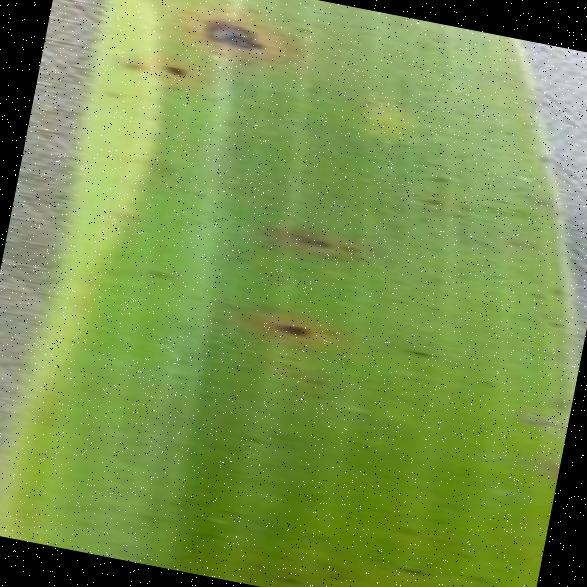Brown_Spot: (190, 2, 270, 62), (268, 212, 339, 264), (256, 304, 320, 348), (507, 402, 568, 434), (390, 552, 437, 582), (524, 443, 560, 482), (284, 364, 334, 392), (310, 558, 358, 586), (105, 198, 151, 227), (380, 511, 423, 542), (153, 52, 196, 82), (114, 48, 153, 80), (182, 520, 226, 547), (210, 242, 254, 269), (132, 504, 177, 529), (227, 423, 269, 448), (395, 336, 435, 362), (146, 150, 183, 178), (478, 186, 514, 210), (267, 566, 306, 587), (501, 228, 538, 250), (446, 539, 478, 564), (140, 260, 176, 282), (459, 565, 495, 587), (329, 235, 362, 258), (419, 165, 451, 188), (538, 388, 572, 408), (528, 144, 556, 168), (329, 350, 359, 372), (182, 212, 210, 235), (98, 82, 130, 102), (522, 282, 550, 304), (287, 158, 315, 180), (302, 525, 334, 544), (472, 368, 500, 388), (526, 192, 554, 212), (310, 320, 340, 338), (198, 120, 224, 140), (448, 266, 476, 284), (416, 190, 442, 208), (538, 314, 564, 332), (482, 266, 509, 282), (410, 209, 432, 228), (545, 279, 569, 296), (367, 202, 392, 218), (290, 18, 312, 36), (184, 183, 206, 200), (454, 198, 476, 212), (406, 184, 424, 200), (500, 125, 515, 137)
